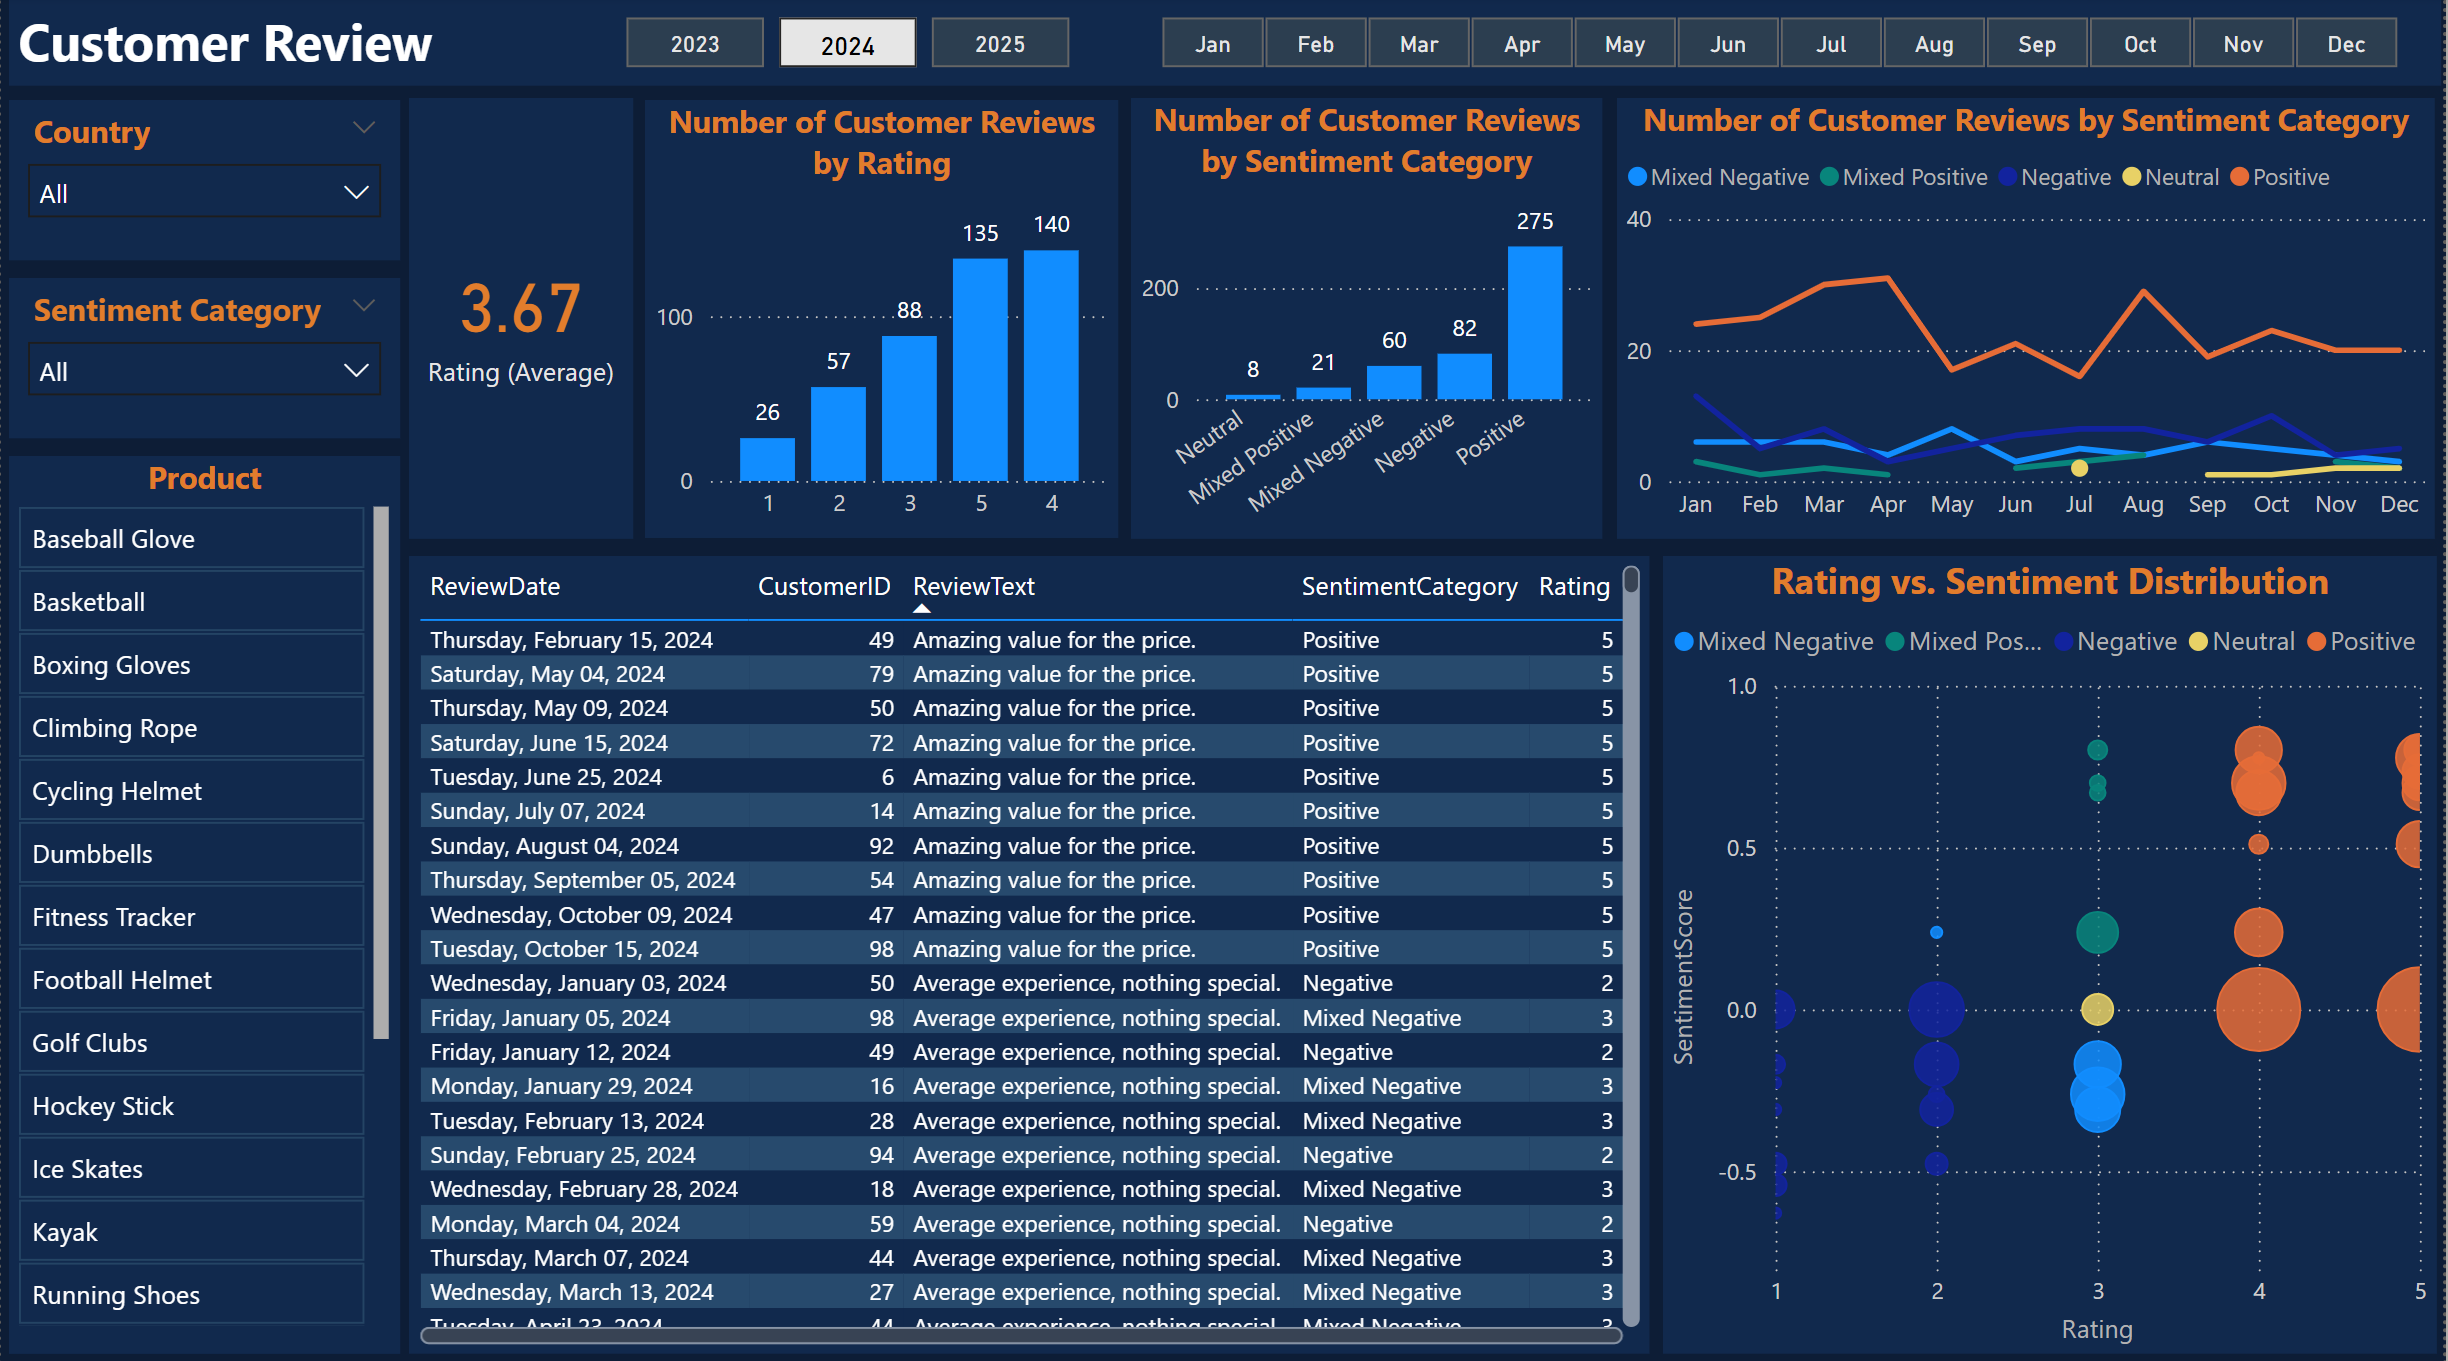

The dashboard page shown, as its layout file describes it:
{"tool":"powerbi","page":{"name":"Customer Review","canvas":[1280,720],"ordinal":3},"visuals":[{"type":"textbox","box":[4.3,0,1274.3,47.1],"z":0},{"type":"card","fields":{"Values":["Calculations.Rating (Average)"]},"box":[213.6,53.1,117.3,230.9],"z":1000},{"type":"advancedSlicerVisual","fields":{"Values":["Calendar.Year"]},"box":[322.5,6.2,243.8,36.2],"z":2000},{"type":"advancedSlicerVisual","fields":{"Values":["Calendar.MonthNameShort"]},"box":[603.8,6.2,662.5,36.2],"z":3000},{"type":"advancedSlicerVisual","title":"Product","fields":{"Values":["dim_products.ProductName"]},"box":[3.7,240.7,204.9,470.4],"z":4000},{"type":"clusteredColumnChart","title":"Number of Customer Reviews by Rating","fields":{"Y":["Calculations.Number of Customer Reviews"],"Category":["fact_customer_reviews_with_sentiment.Rating"]},"box":[337,54.3,248.1,229.6],"z":5000},{"type":"clusteredColumnChart","title":"Number of Customer Reviews by Sentiment Category","fields":{"Y":["Calculations.Number of Customer Reviews"],"Category":["fact_customer_reviews_with_sentiment.SentimentCategory"]},"box":[592.2,53.1,246.9,230.9],"z":6000},{"type":"lineChart","title":"Number of Customer Reviews by Sentiment Category","fields":{"Category":["Calendar.MonthNameShort"],"Series":["fact_customer_reviews_with_sentiment.SentimentCategory"],"Y":["Calculations.Number of Customer Reviews"]},"box":[846.9,53.1,428.4,230.9],"z":7000},{"type":"tableEx","title":"Conversion Rate by Product and Month","fields":{"Values":["fact_customer_reviews_with_sentiment.ReviewDate","fact_customer_reviews_with_sentiment.CustomerID","fact_customer_reviews_with_sentiment.ReviewText","fact_customer_reviews_with_sentiment.SentimentCategory","fact_customer_reviews_with_sentiment.Rating"]},"box":[213.6,293.8,628.4,417.3],"z":8000},{"type":"scatterChart","title":"Rating vs. Sentiment Distribution","fields":{"X":["fact_customer_reviews_with_sentiment.Rating"],"Y":["fact_customer_reviews_with_sentiment.SentimentScore"],"Series":["fact_customer_reviews_with_sentiment.SentimentCategory"],"Size":["Calculations.Number of Customer Reviews"]},"box":[846.9,293.8,428.4,417.3],"z":9000},{"type":"slicer","fields":{"Values":["dim_customers.Country"]},"box":[3.7,54.3,204.9,84],"z":10000},{"type":"slicer","fields":{"Values":["fact_customer_reviews_with_sentiment.SentimentCategory"]},"box":[3.7,148.1,204.9,84],"z":11000}]}

Visuals, with their boxes in screenshot pixels (x1, y1, x2, y2), scaled from the page's 1280x720 canvas onto the 2448x1361 screenshot:
textbox: (8,0,2445,89)
card - Calculations.Rating (Average): (409,100,633,537)
advancedSlicerVisual - Calendar.Year: (617,12,1083,80)
advancedSlicerVisual - Calendar.MonthNameShort: (1155,12,2422,80)
"Product" advancedSlicerVisual: (7,455,399,1344)
"Number of Customer Reviews by Rating" clusteredColumnChart: (645,103,1119,537)
"Number of Customer Reviews by Sentiment Category" clusteredColumnChart: (1133,100,1605,537)
"Number of Customer Reviews by Sentiment Category" lineChart: (1620,100,2439,537)
"Conversion Rate by Product and Month" tableEx: (409,555,1610,1344)
"Rating vs. Sentiment Distribution" scatterChart: (1620,555,2439,1344)
slicer - dim_customers.Country: (7,103,399,261)
slicer - fact_customer_reviews_with_sentiment.SentimentCategory: (7,280,399,439)
